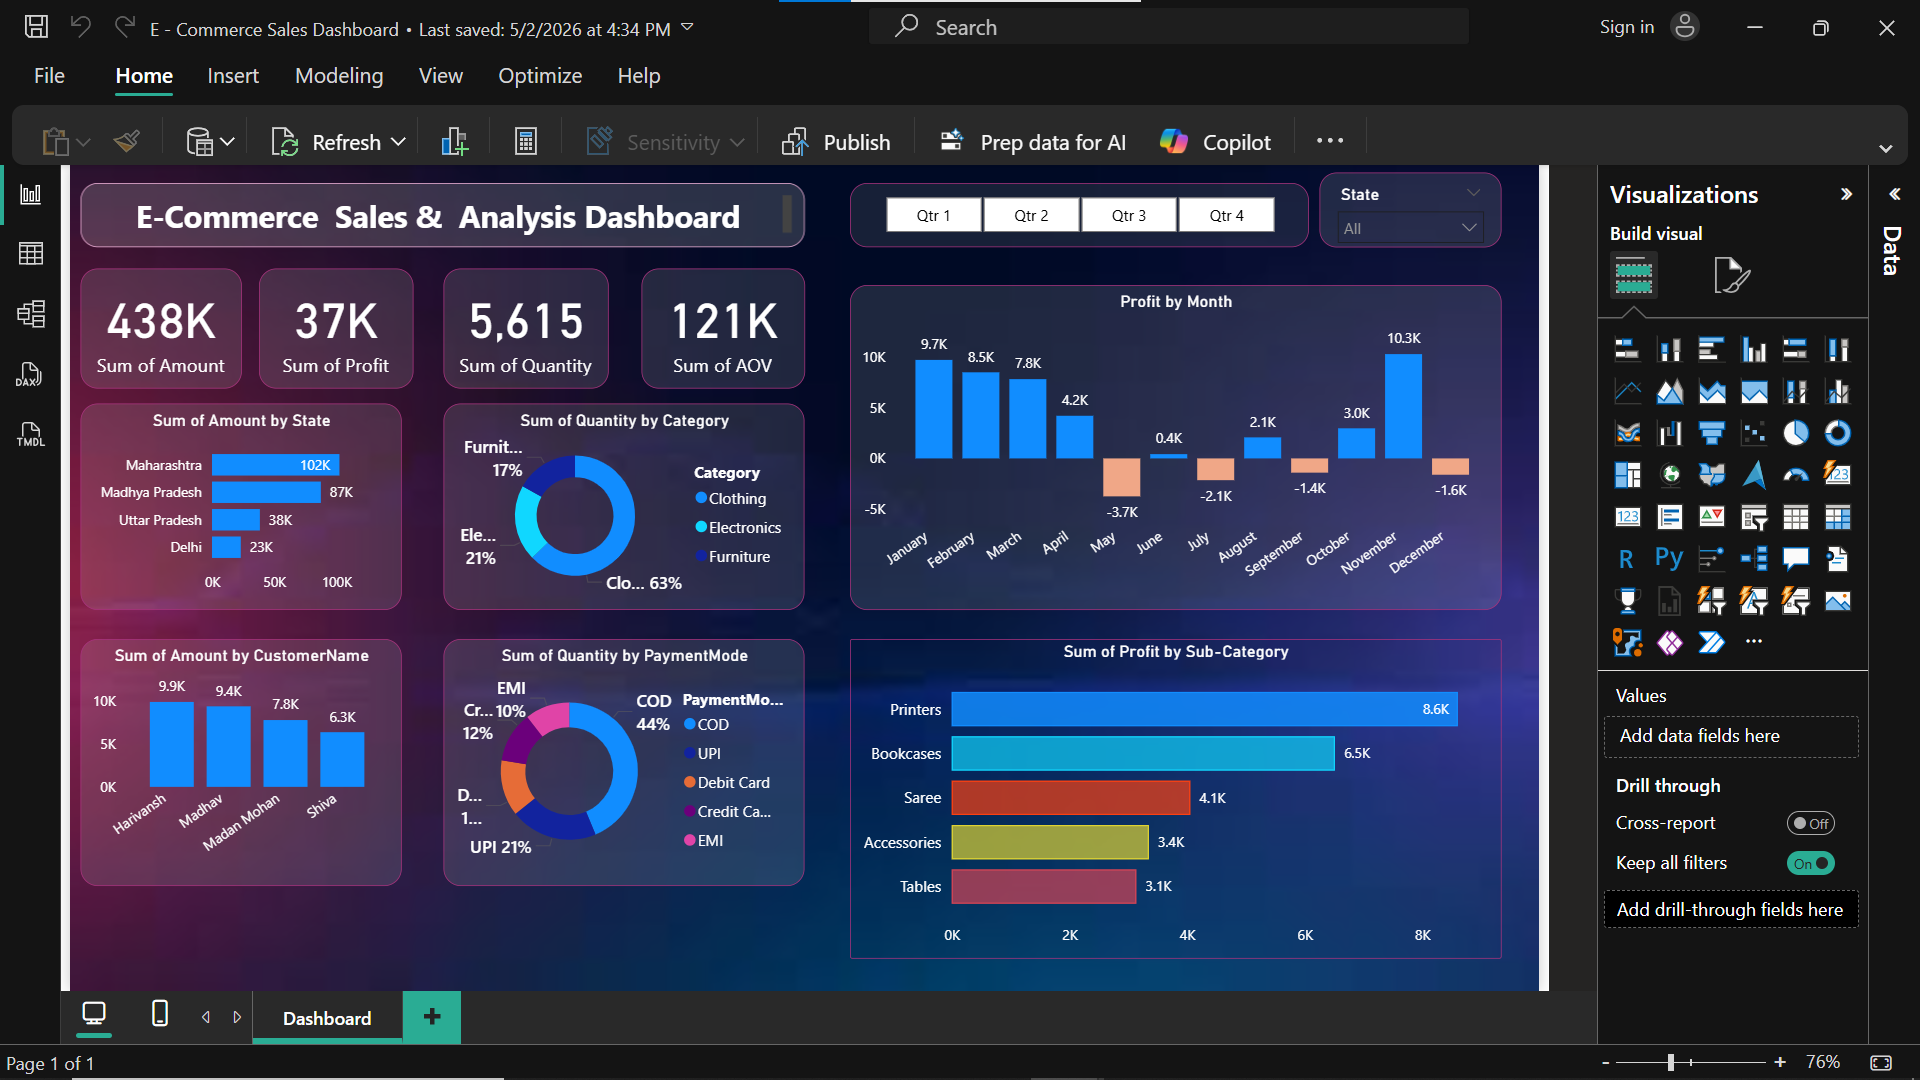

This screenshot's page, from the dashboard's own definition file:
{"tool":"powerbi","page":{"name":"Dashboard","canvas":[1280,720],"ordinal":0},"visuals":[{"type":"columnChart","title":" Profit by Month","fields":{"Category":["Orders.Order Date.Variation.Date Hierarchy.Month"],"Y":["Sum(Details.Profit)"]},"box":[679.9,104.5,567.8,283.2],"z":0},{"type":"barChart","fields":{"Category":["Details.Sub-Category"],"Y":["Sum(Details.Profit)"]},"box":[679.9,413.4,567.8,278.6],"z":1000},{"type":"donutChart","fields":{"Category":["Details.Category"],"Y":["Sum(Details.Quantity)"]},"box":[325.6,207.4,315,180.2],"z":2000},{"type":"donutChart","fields":{"Y":["Sum(Details.Quantity)"],"Category":["Details.PaymentMode"]},"box":[325.6,413.4,315,215],"z":3000},{"type":"card","fields":{"Values":["Sum(Details.Amount)"]},"box":[9.1,90.9,140.8,104.5],"z":4000},{"type":"card","fields":{"Values":["Sum(Details.Profit)"]},"box":[165,90.9,134.8,104.5],"z":5000},{"type":"card","fields":{"Values":["Sum(Details.Quantity)"]},"box":[325.6,90.9,143.8,104.5],"z":6000},{"type":"card","fields":{"Values":["Sum(Details.AOV)"]},"box":[498.2,90.9,142.3,104.5],"z":7000},{"type":"barChart","fields":{"Category":["Orders.State"],"Y":["Sum(Details.Amount)"]},"box":[9.1,207.4,280.1,180.2],"z":8000},{"type":"columnChart","fields":{"Category":["Orders.CustomerName"],"Y":["Sum(Details.Amount)"]},"box":[9.1,413.4,280.1,215],"z":9000},{"type":"textbox","box":[9.1,15.1,631.4,56],"z":10000},{"type":"slicer","fields":{"Values":["Orders.Order Date.Variation.Date Hierarchy.Quarter"]},"box":[679.9,15.1,399.8,56],"z":11000},{"type":"slicer","fields":{"Values":["Orders.State"]},"box":[1088.7,6.1,159,65.1],"z":12000}]}

Visuals, with their boxes on the page's 1280x720 design canvas (x1, y1, x2, y2). These are canvas units, not pixel positions in the 1920x1080 screenshot, which may show the page scaled, cropped or inside an application window:
" Profit by Month" columnChart: box=[680, 104, 1248, 388]
barChart - Details.Sub-Category x Sum(Details.Profit): box=[680, 413, 1248, 692]
donutChart - Details.Category x Sum(Details.Quantity): box=[326, 207, 641, 388]
donutChart - Sum(Details.Quantity) x Details.PaymentMode: box=[326, 413, 641, 628]
card - Sum(Details.Amount): box=[9, 91, 150, 195]
card - Sum(Details.Profit): box=[165, 91, 300, 195]
card - Sum(Details.Quantity): box=[326, 91, 469, 195]
card - Sum(Details.AOV): box=[498, 91, 640, 195]
barChart - Orders.State x Sum(Details.Amount): box=[9, 207, 289, 388]
columnChart - Orders.CustomerName x Sum(Details.Amount): box=[9, 413, 289, 628]
textbox: box=[9, 15, 640, 71]
slicer - Orders.Order Date.Variation.Date Hierarchy.Quarter: box=[680, 15, 1080, 71]
slicer - Orders.State: box=[1089, 6, 1248, 71]
